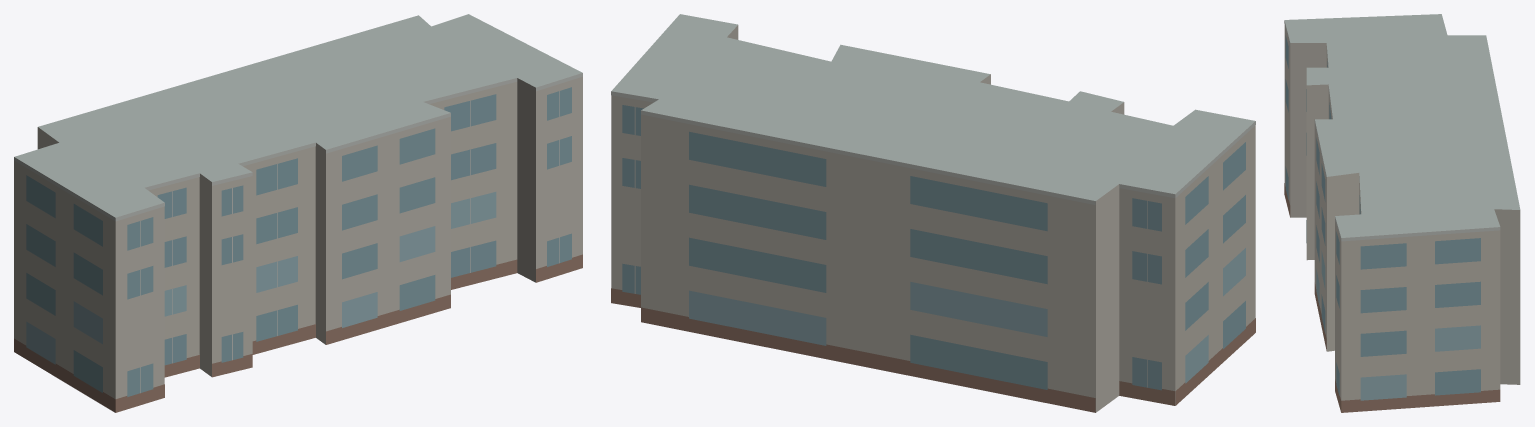
Rendered from survey-upis-32997230.glb.
3 renders of one model, left to right at view 1: azimuth 30°, elevation 25°; view 2: azimuth 150°, elevation 25°; view 3: azimuth 270°, elevation 25°, orthographic. The views are drawn at different scales.
Parts seen in each view (by area): view 1: survey-upis-32997230.tmp; view 2: survey-upis-32997230.tmp; view 3: survey-upis-32997230.tmp.
Part boxes in pixels (bbox=[...]): survey-upis-32997230.tmp: bbox=[14, 14, 582, 412]; survey-upis-32997230.tmp: bbox=[611, 14, 1255, 412]; survey-upis-32997230.tmp: bbox=[1284, 14, 1520, 412].
Bounding box in the file's own units: 34.79 × 12.65 × 15.49.
